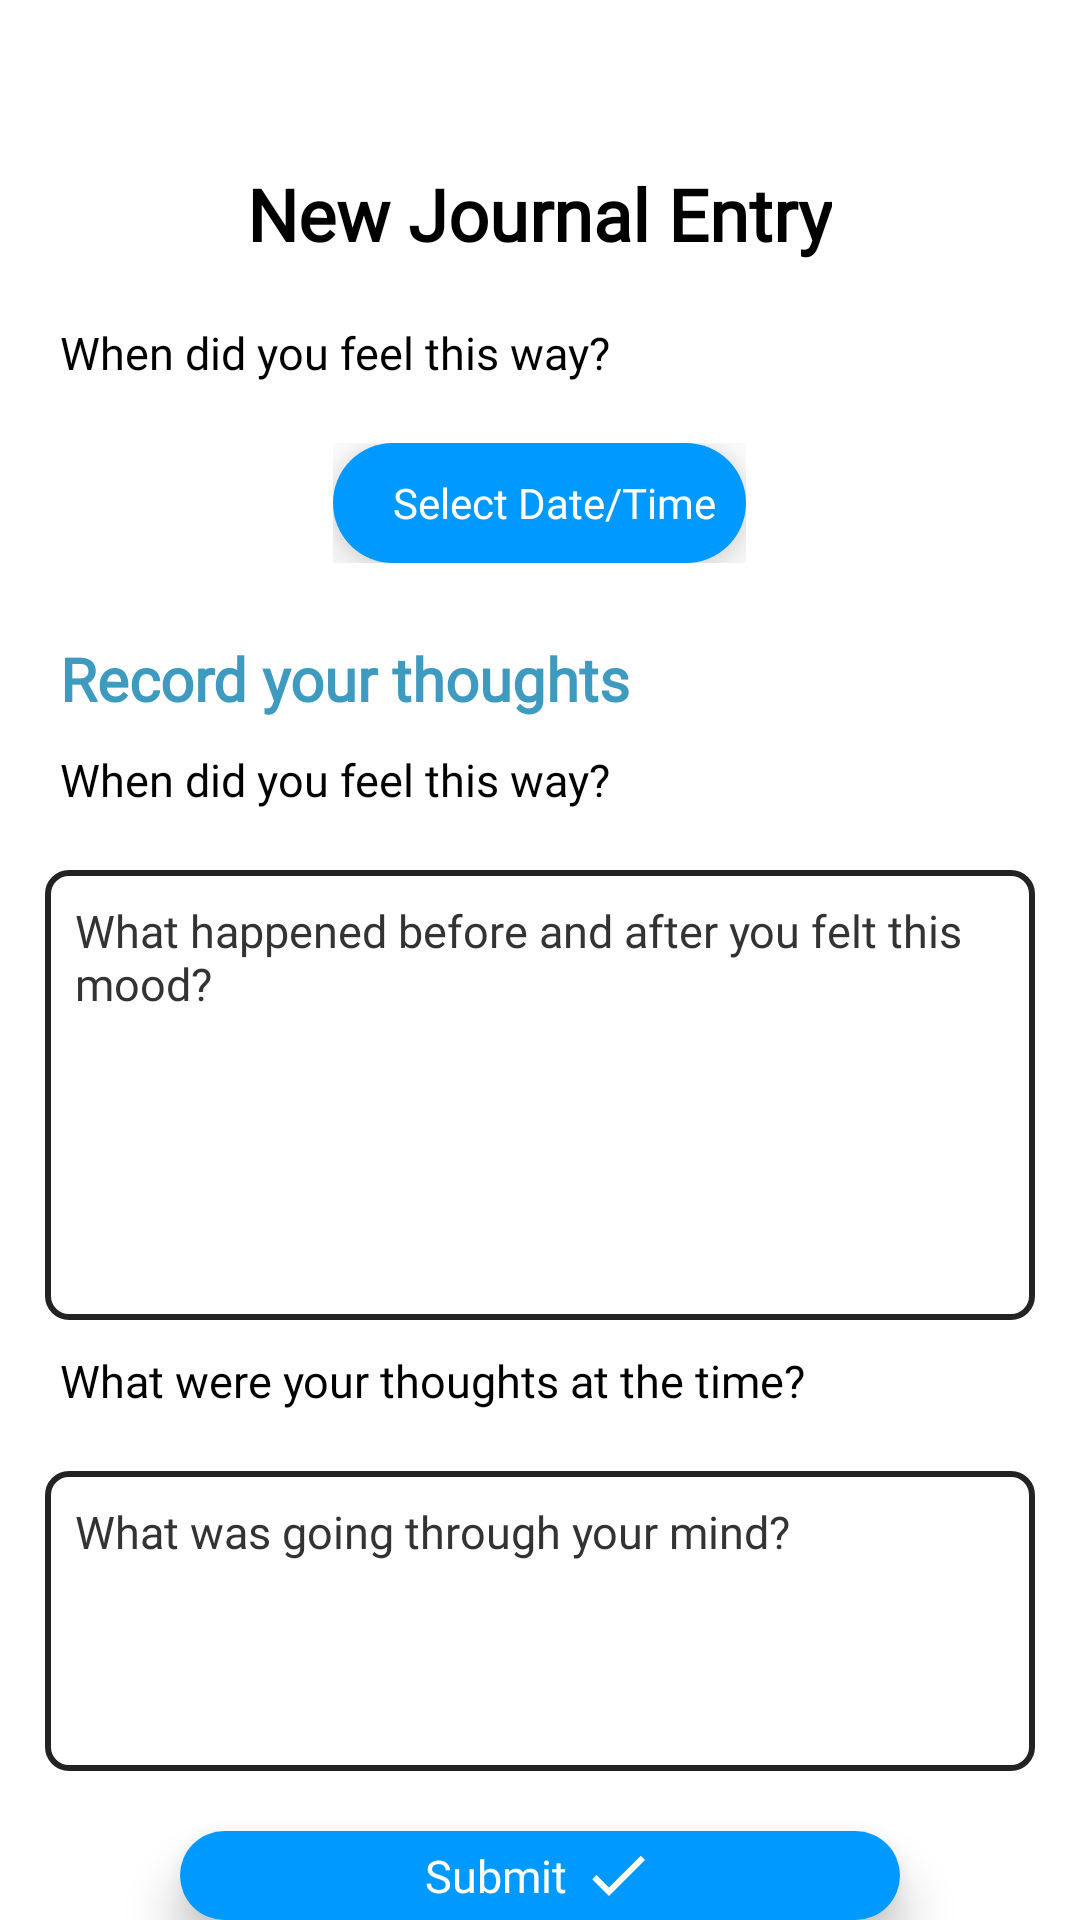

Locate icon controls on the screen. Image size 1080x1920, boxes as (x1, y1, x2, y2).
check: (592, 1856, 645, 1896)
